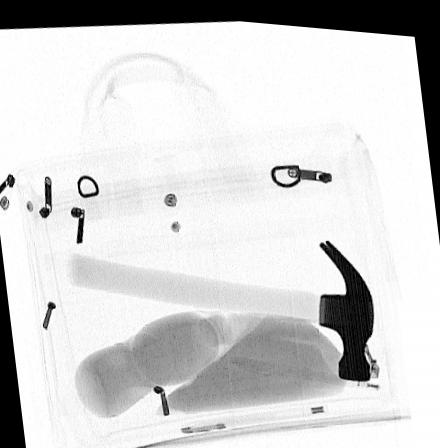Hammer: (63, 233, 374, 375)
